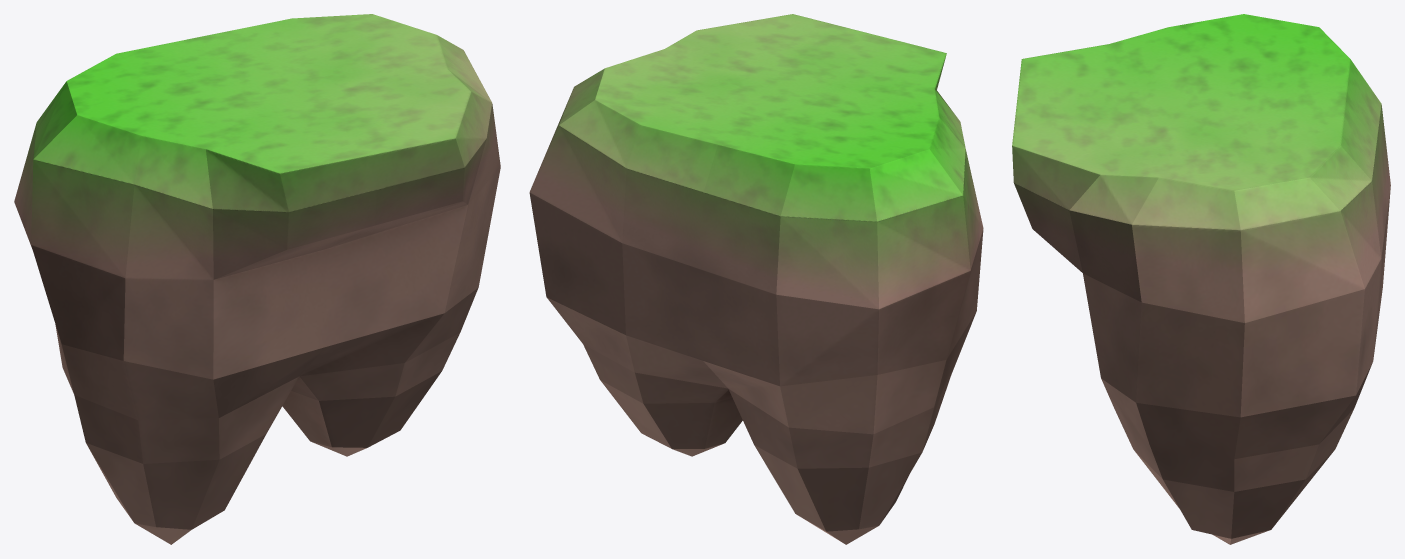
Rendered from Hovering_Islands_C.gltf.
3 views of the same model, side by side, from view 1: azimuth 30°, elevation 25°; view 2: azimuth 150°, elevation 25°; view 3: azimuth 270°, elevation 25° (orthographic). The views are drawn at different scales.
Parts seen in each view (by area): view 1: Hovering_Islands_C; view 2: Hovering_Islands_C; view 3: Hovering_Islands_C.
Part boxes in pixels (left/top/right/bottom): Hovering_Islands_C: left=14, top=14, right=500, bottom=544; Hovering_Islands_C: left=529, top=14, right=983, bottom=544; Hovering_Islands_C: left=1012, top=14, right=1390, bottom=544.
Bounding box in the file's own units: 0.3812 × 0.3698 × 0.2806.
1 material, 1 textured.
